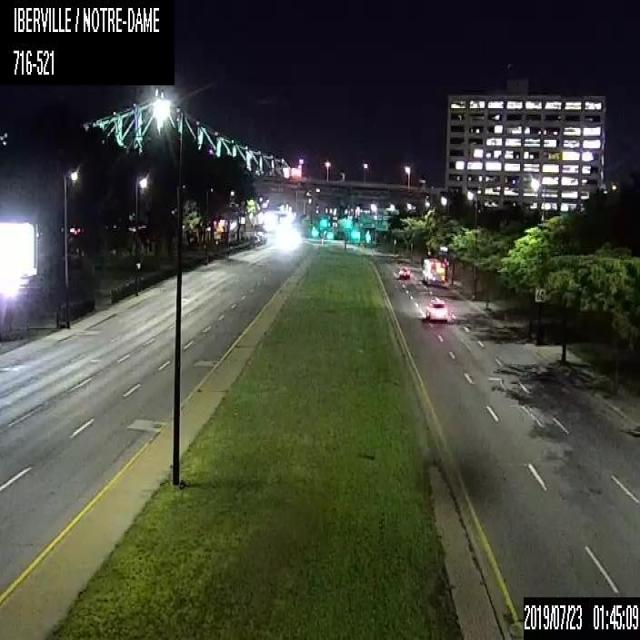bus: (420, 256, 445, 286)
vehicle: (424, 295, 448, 320), (395, 262, 410, 278)
